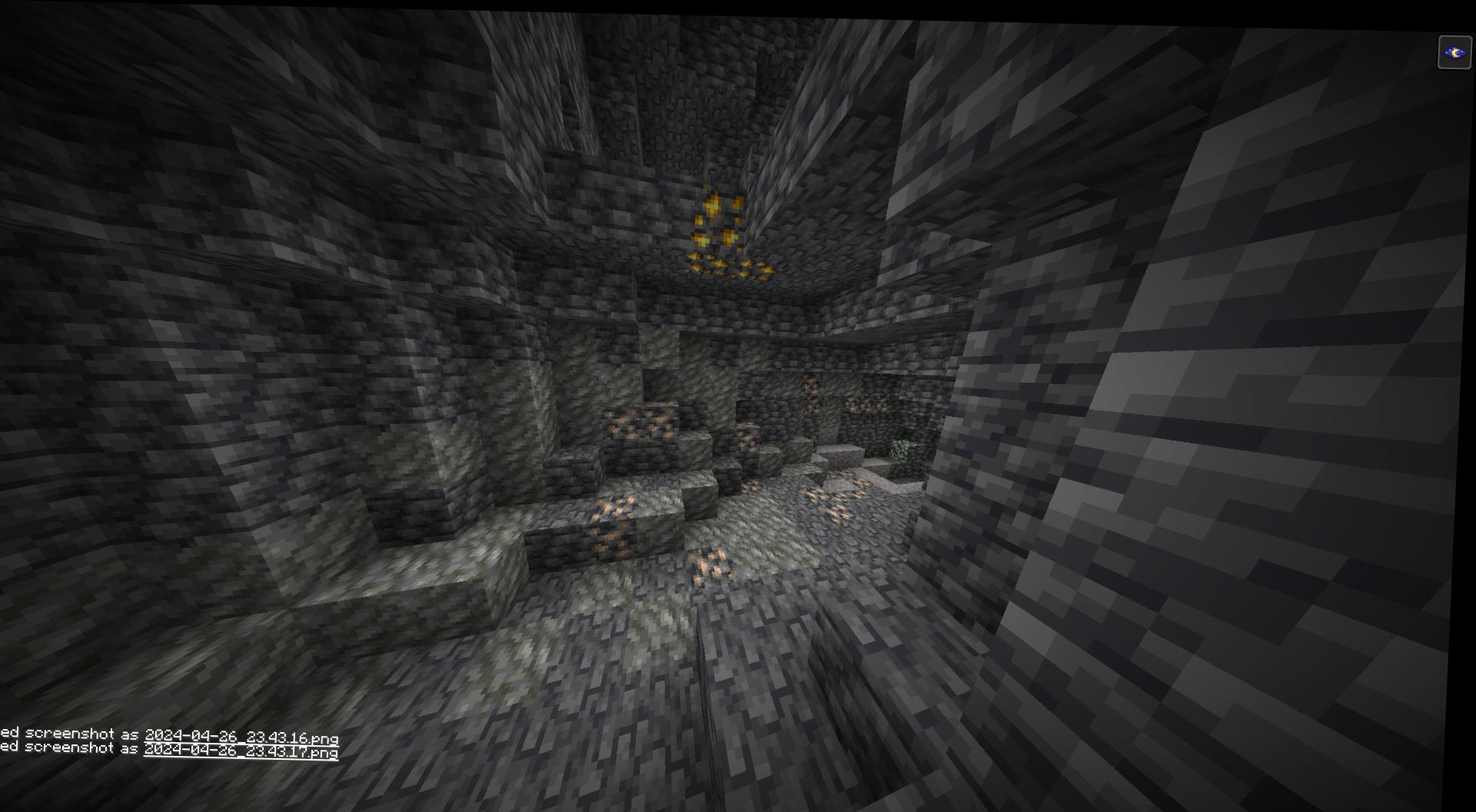gold ore: (692, 183, 756, 254), (690, 243, 739, 282), (736, 248, 778, 288)
iron ore: (806, 474, 872, 526), (592, 494, 642, 556), (637, 394, 688, 442), (685, 534, 734, 583), (608, 399, 650, 443), (845, 390, 894, 412), (798, 365, 825, 394), (738, 417, 763, 446), (742, 465, 766, 495)
